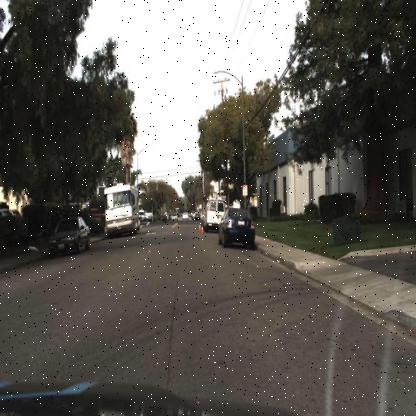car: (46, 216, 90, 258), (48, 214, 91, 255), (217, 205, 254, 247), (204, 197, 227, 231), (180, 208, 191, 226), (167, 212, 177, 224)
trafficLight-Red: (149, 196, 154, 209), (202, 192, 207, 204)
truck: (101, 180, 140, 236)
